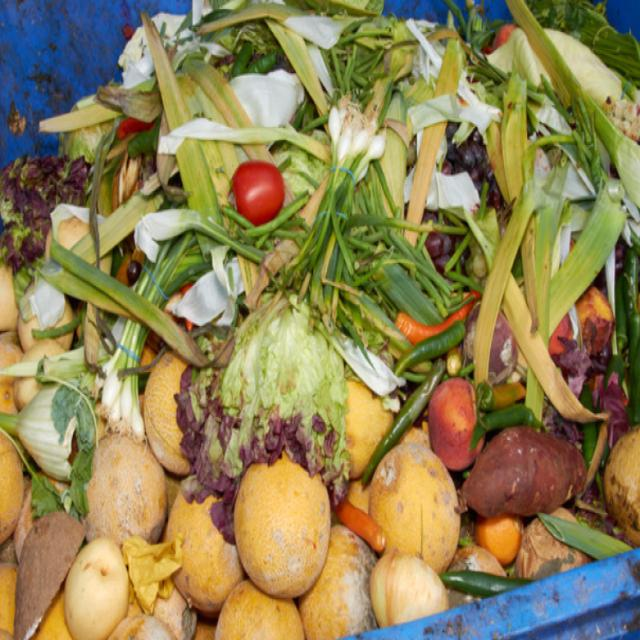paper: (175, 284, 364, 514), (278, 100, 392, 360), (2, 114, 100, 288), (239, 448, 335, 591), (466, 431, 590, 511), (369, 356, 434, 487), (426, 365, 493, 487), (221, 152, 296, 224)
